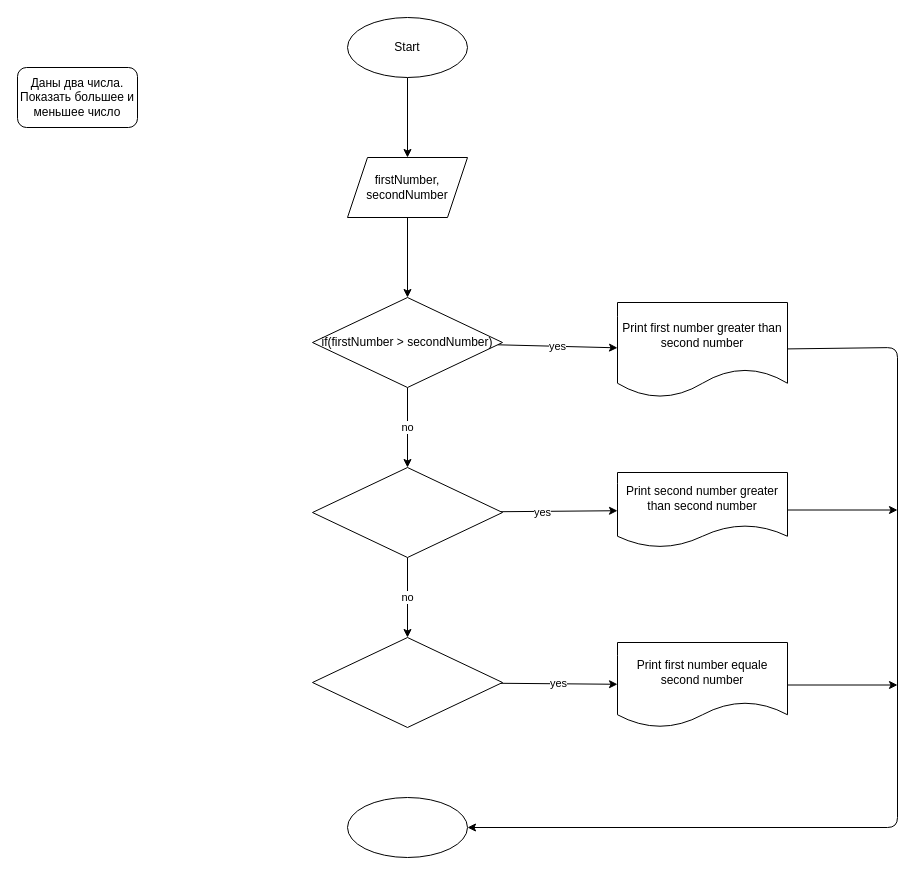
Some shapes in this 923 by 875 pixel diagram are drawn without their labels. Each missing label, with the centre of its shape:
"End" belongs at (x=407, y=827).
"if(firstNumber < secondNumber)" belongs at (x=407, y=512).
"if(firstNumber == secondNumber)" belongs at (x=407, y=682).
